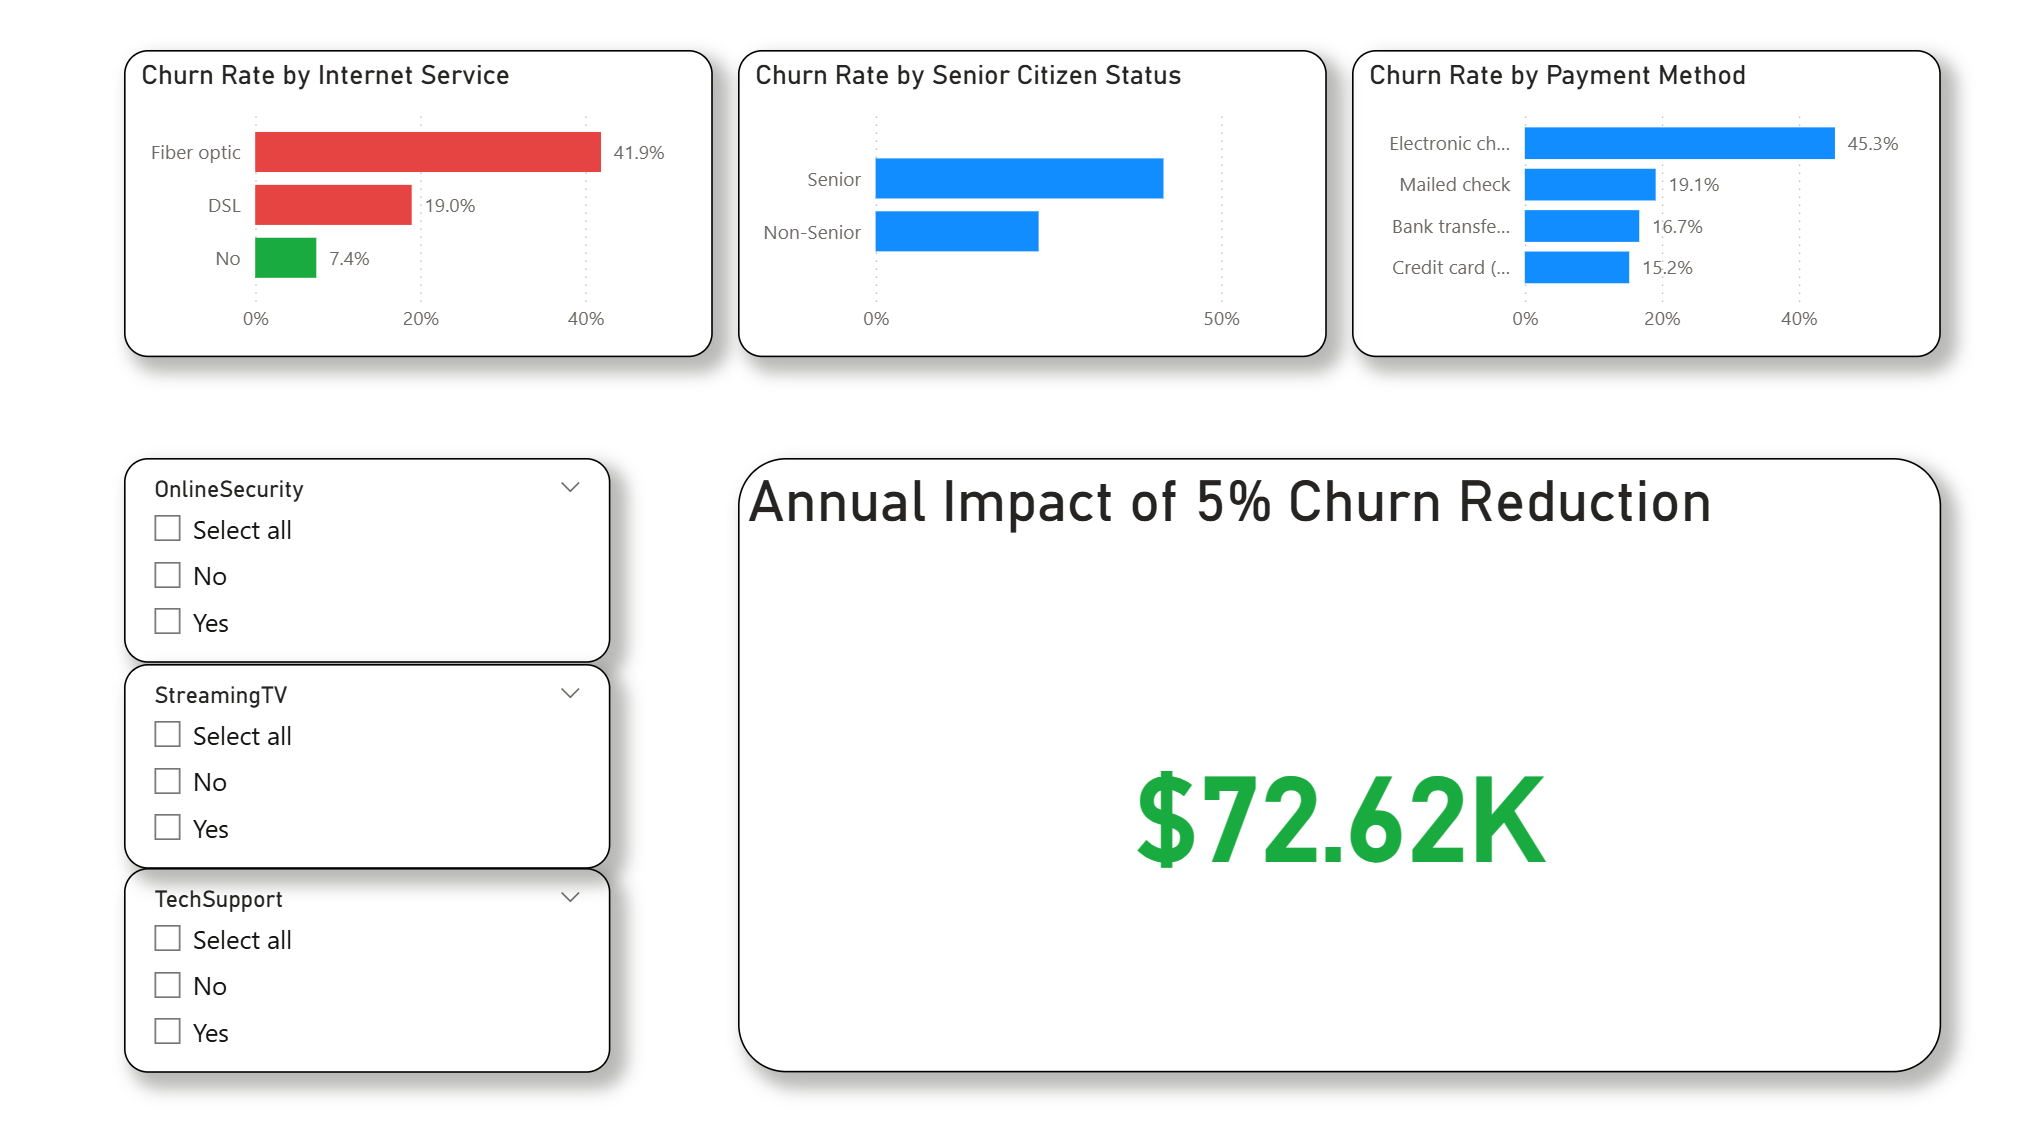

The page's visual inventory and layout, read from the dashboard file:
{"tool":"powerbi","page":{"name":"Segment Drivers","canvas":[1280,720],"ordinal":2},"visuals":[{"type":"clusteredBarChart","title":"Churn Rate by Internet Service","fields":{"Category":["factSubscription.InternetService"],"Y":["_Measures.m_Churn Rate"]},"box":[80,32,368,192],"z":0},{"type":"clusteredBarChart","title":"Churn Rate by Payment Method","fields":{"Y":["_Measures.m_Churn Rate"],"Category":["dimCustomer.PaymentMethod"]},"box":[848,32,368,192],"z":1000},{"type":"clusteredBarChart","title":"Churn Rate by Senior Citizen Status","fields":{"Y":["_Measures.m_Churn Rate"],"Category":["dimCustomer.SeniorCitizen"]},"box":[464,32,368,192],"z":2000},{"type":"slicer","fields":{"Values":["factSubscription.OnlineSecurity"]},"box":[80,288,304,128],"z":3000},{"type":"slicer","fields":{"Values":["factSubscription.TechSupport"]},"box":[80,544,304,128],"z":4000},{"type":"slicer","fields":{"Values":["factSubscription.StreamingTV"]},"box":[80,416,304,128],"z":5000},{"type":"card","title":"Annual Impact of 5% Churn Reduction","fields":{"Values":["_Measures.m_5pct Churn Reduction Impact"]},"box":[464,288,752,384],"z":6000}]}

Visuals, with their boxes in screenshot pixels (x1, y1, x2, y2), scaled from the page's 1280x720 canvas onto the 2039x1143 screenshot:
"Churn Rate by Internet Service" clusteredBarChart: 127, 51, 714, 356
"Churn Rate by Payment Method" clusteredBarChart: 1351, 51, 1937, 356
"Churn Rate by Senior Citizen Status" clusteredBarChart: 739, 51, 1325, 356
slicer - factSubscription.OnlineSecurity: 127, 457, 612, 660
slicer - factSubscription.TechSupport: 127, 864, 612, 1067
slicer - factSubscription.StreamingTV: 127, 660, 612, 864
"Annual Impact of 5% Churn Reduction" card: 739, 457, 1937, 1067
